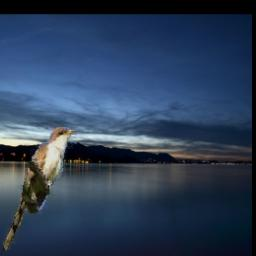Cuckoo: (4, 127, 78, 250)
